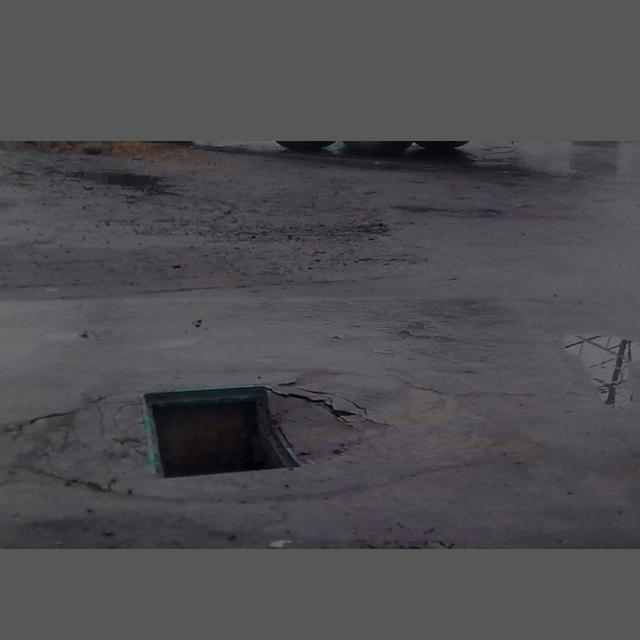lose: (144, 367, 303, 479)
